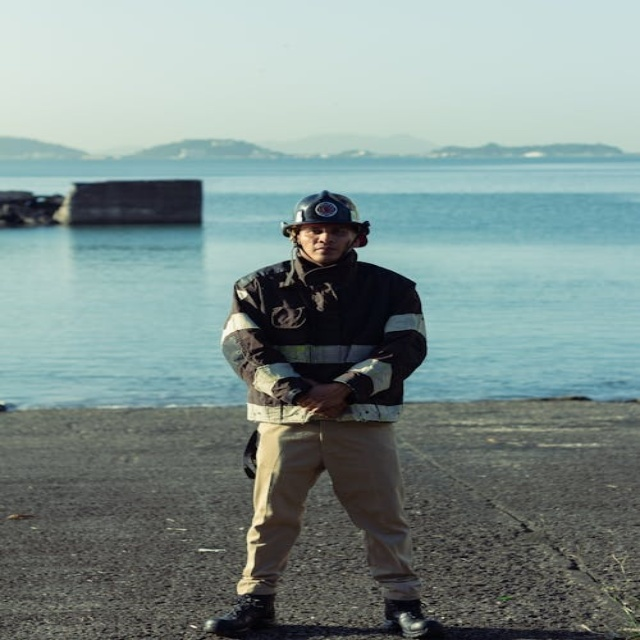Sin_gafas: (302, 225, 349, 239)
Sin_guantes: (292, 381, 352, 418)
Sin_mascara: (311, 243, 335, 258)
